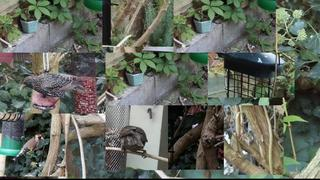goldfinch: (12, 134, 45, 163)
starling: (20, 73, 86, 98), (120, 125, 148, 159)
